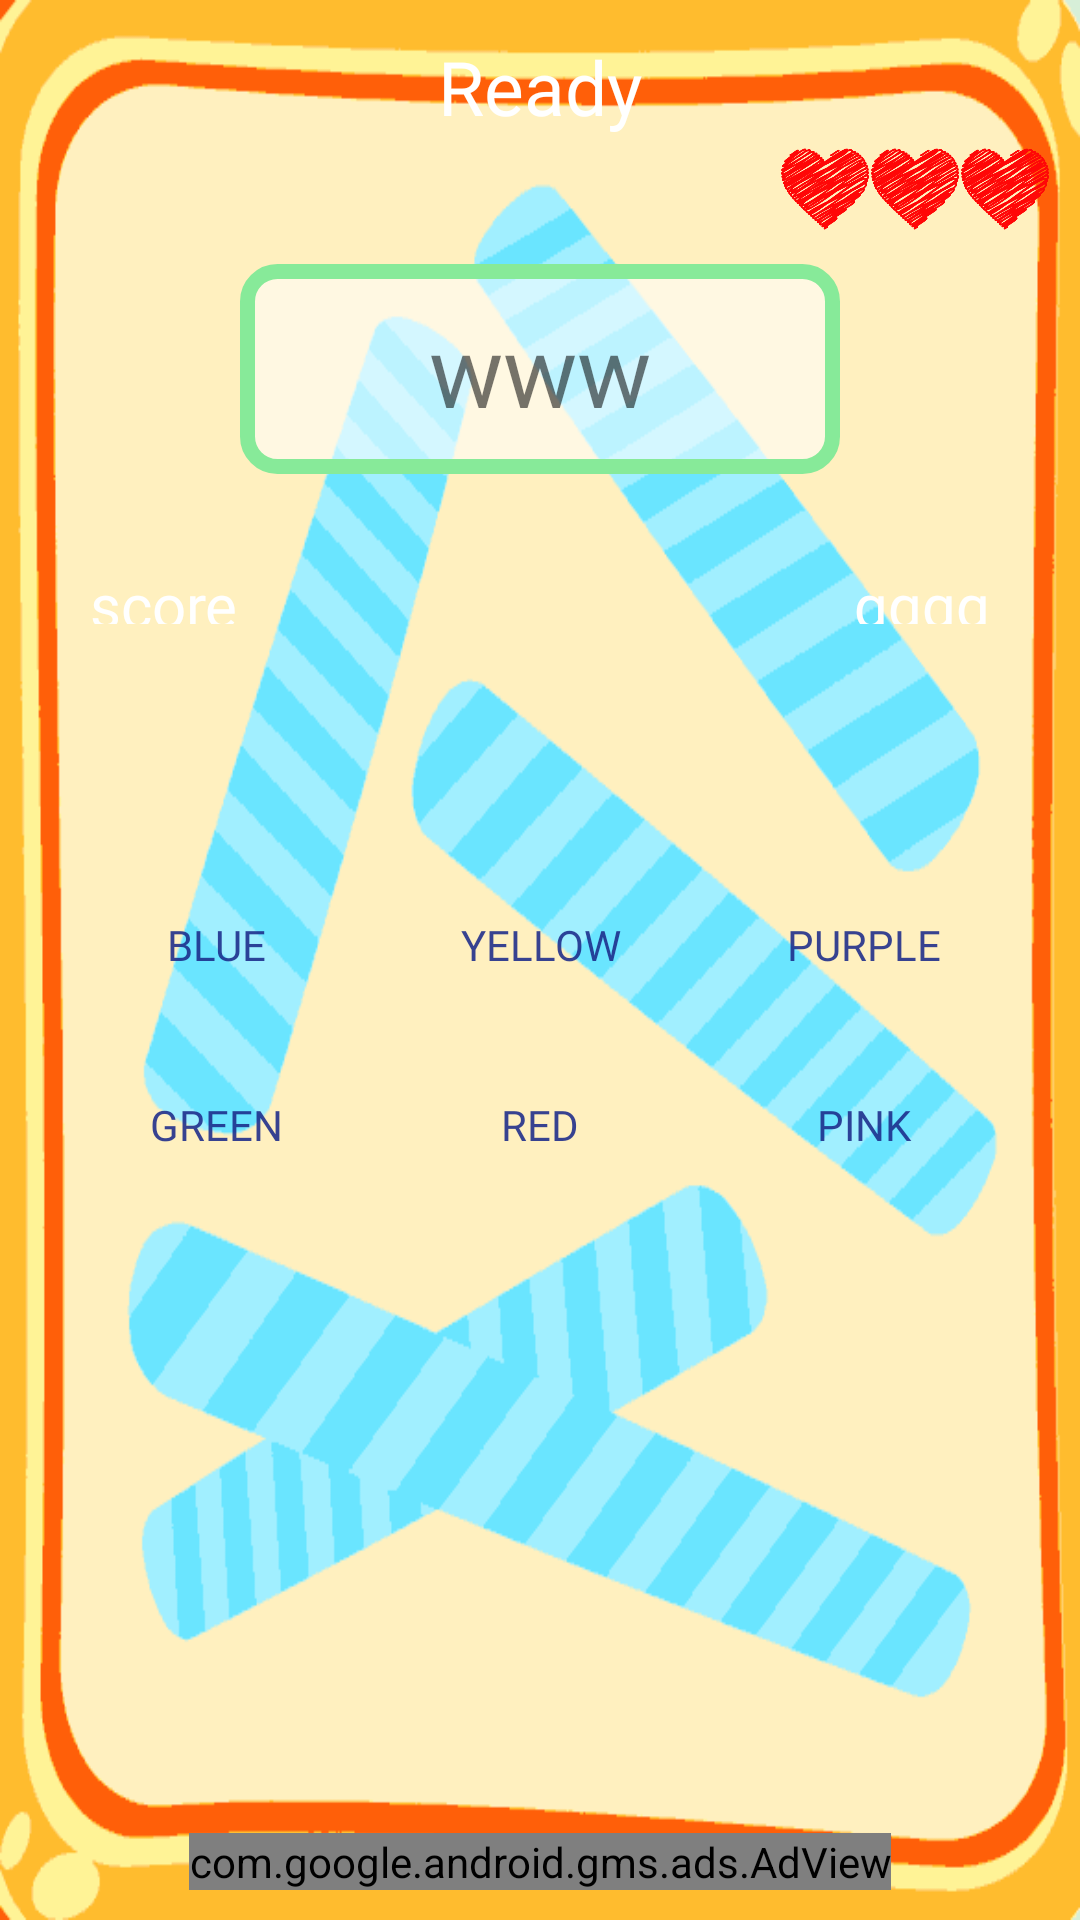

Icon click points for this 1080px×1920px phone screenshot, format (x=x, y=y):
life: (x=1005, y=189), (x=825, y=189), (x=915, y=189)
